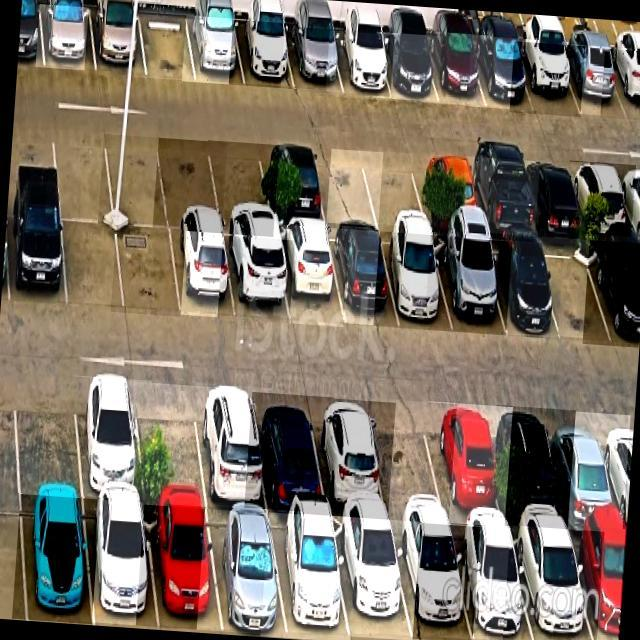empty: (366, 401, 448, 522), (134, 382, 207, 506), (14, 374, 82, 494), (537, 238, 613, 340), (103, 133, 168, 228), (208, 141, 273, 236), (159, 138, 221, 231), (116, 226, 180, 316), (51, 129, 113, 221), (62, 221, 123, 310), (313, 148, 378, 224), (362, 150, 427, 225), (139, 11, 196, 81)
occupied: (205, 509, 286, 635), (269, 514, 349, 640), (331, 517, 412, 640), (144, 504, 222, 631), (390, 523, 472, 640), (451, 524, 533, 640), (428, 402, 504, 526), (310, 397, 387, 519), (510, 527, 592, 640), (85, 499, 157, 626), (547, 410, 622, 531), (194, 386, 267, 510), (21, 496, 91, 624), (252, 391, 326, 512), (74, 375, 143, 500), (497, 405, 567, 528), (431, 237, 506, 335), (482, 240, 558, 335), (380, 231, 452, 331), (329, 228, 399, 325), (276, 225, 343, 324), (568, 529, 626, 640), (170, 230, 236, 318), (224, 236, 289, 322), (7, 212, 65, 308), (465, 157, 534, 236), (590, 240, 640, 347), (259, 145, 326, 223), (558, 43, 627, 117), (414, 154, 480, 230), (514, 42, 580, 115), (521, 159, 585, 234), (569, 161, 631, 236), (472, 36, 533, 110), (426, 33, 486, 106), (377, 34, 438, 102), (234, 20, 294, 89), (186, 15, 244, 85), (330, 30, 390, 96), (89, 8, 146, 74), (40, 4, 95, 71), (285, 27, 341, 91), (605, 49, 640, 119)
